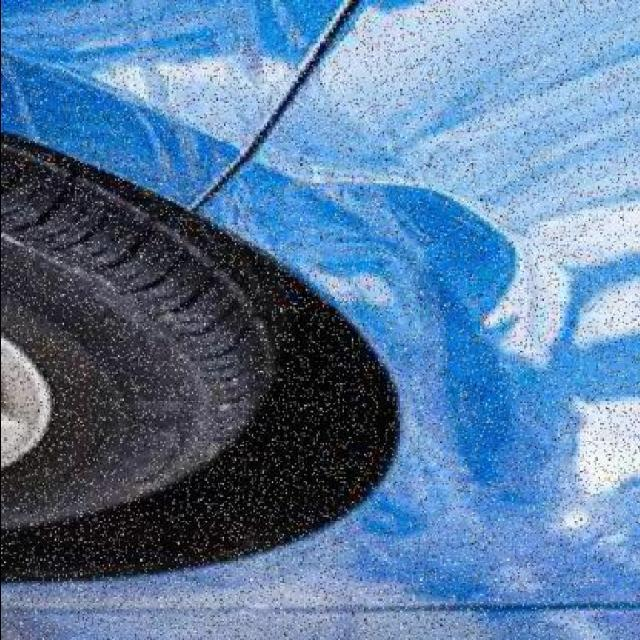fender-dent: (179, 121, 640, 605)
